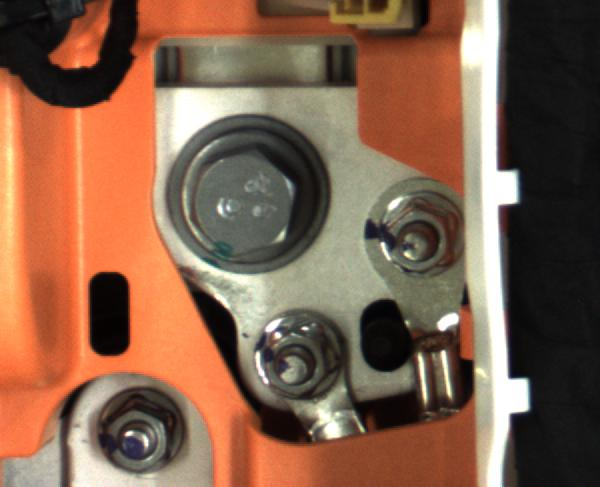screw_s: (237, 311, 348, 398), (83, 387, 188, 476), (380, 190, 474, 285)
